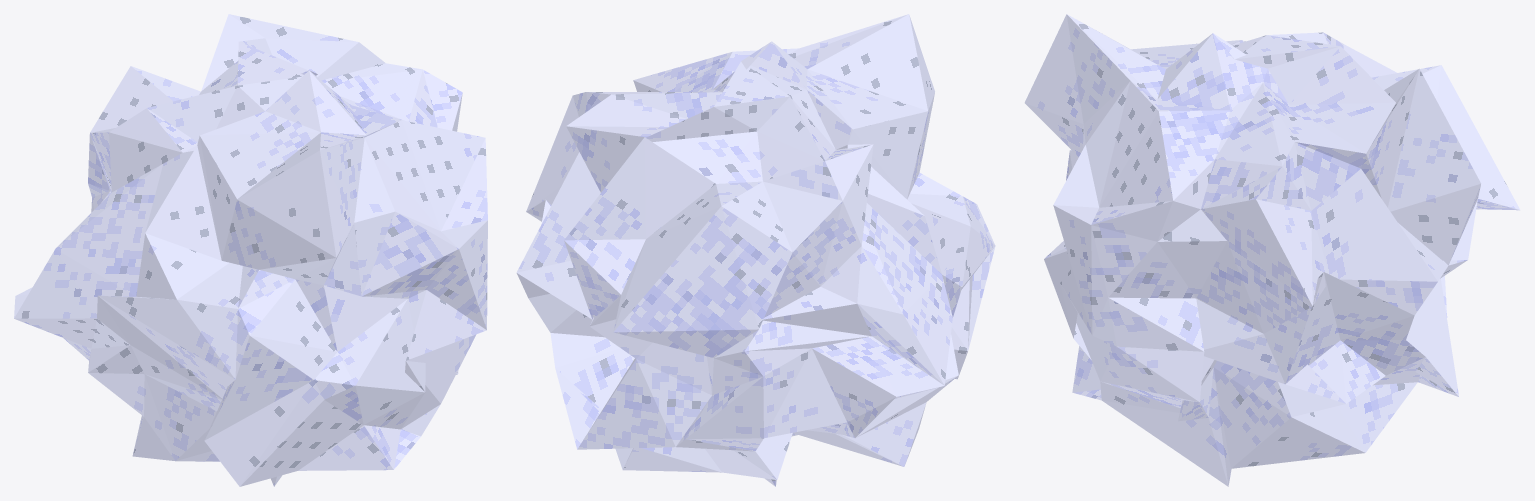
Rendered from crumbledPaper.glb.
The picture shows the model from 3 angles, left to right: view 1: azimuth 30°, elevation 25°; view 2: azimuth 150°, elevation 25°; view 3: azimuth 270°, elevation 25°; orthographic projection.
Visible parts, largest first — view 1: Icosphere; view 2: Icosphere; view 3: Icosphere.
Boxes of the visible parts, x1,y1,x2,y2 form: Icosphere: (14,14,487,486); Icosphere: (516,14,995,486); Icosphere: (1024,14,1519,486).
Bounding box in the file's own units: 0.2256 × 0.2145 × 0.2274.
1 material, 1 textured.
